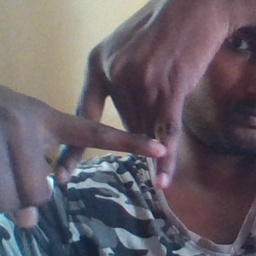H: (55, 67, 191, 204)
